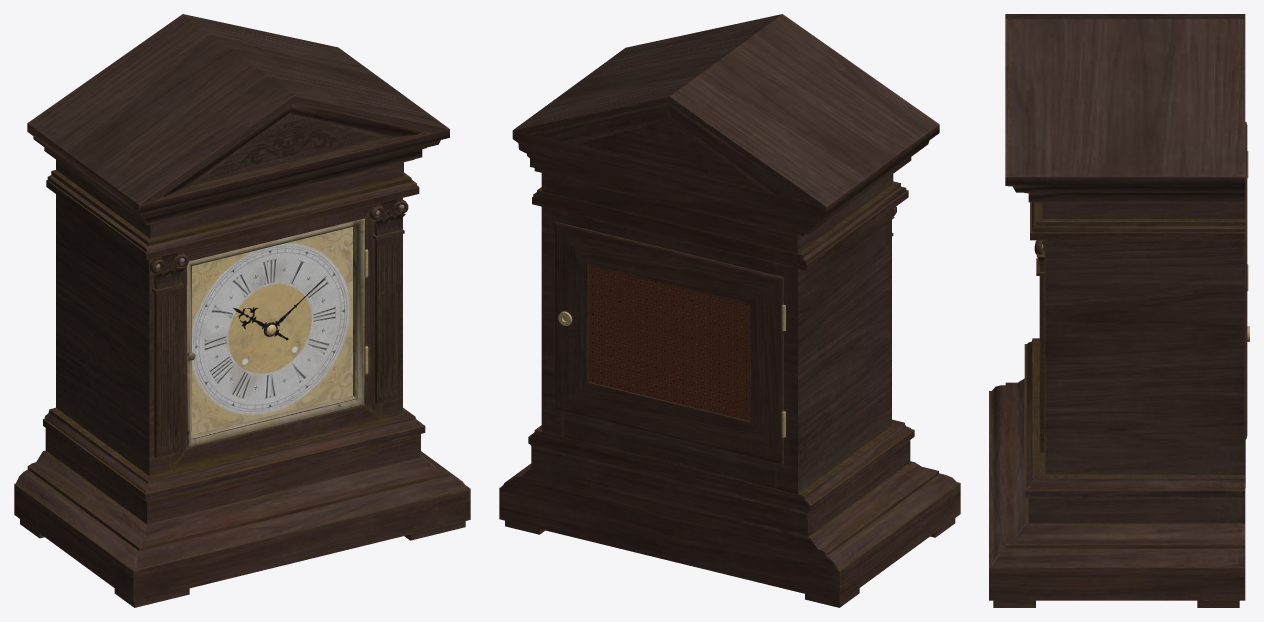
Rendered from large.obj.
3 renders of one model, left to right at view 1: azimuth 30°, elevation 25°; view 2: azimuth 150°, elevation 25°; view 3: azimuth 270°, elevation 25°, orthographic. The views are drawn at different scales.
Visible parts, largest first — view 1: Clock_low, ClockDoor_low.001; view 2: Clock_low; view 3: Clock_low.
Boxes of the visible parts, bbox=[...] form: Clock_low: bbox=[14, 14, 470, 607]; ClockDoor_low.001: bbox=[187, 218, 364, 447]; Clock_low: bbox=[499, 14, 960, 607]; Clock_low: bbox=[989, 14, 1249, 607].
Size of the model in its own units: 0.31 by 0.4109 by 0.1935.
